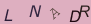A: (48, 7, 62, 20)
D: (68, 9, 81, 23)
L: (4, 8, 13, 22)
N: (28, 4, 42, 18)
R: (79, 4, 90, 18)
